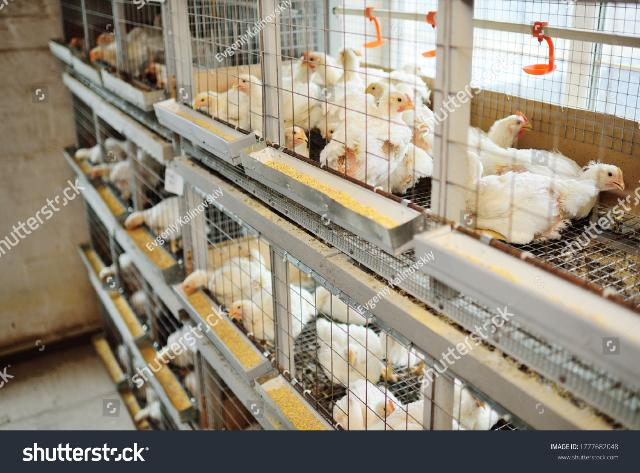Chicken: (473, 163, 627, 241), (324, 89, 419, 183), (229, 285, 314, 351), (359, 76, 439, 144), (315, 315, 388, 389), (234, 71, 324, 130), (182, 248, 271, 302), (333, 377, 406, 432), (125, 195, 187, 249), (469, 110, 531, 159), (318, 279, 383, 325), (87, 34, 151, 76), (191, 81, 252, 125), (298, 42, 344, 90), (87, 158, 138, 200), (452, 388, 500, 432), (278, 123, 314, 158), (336, 44, 364, 86)
